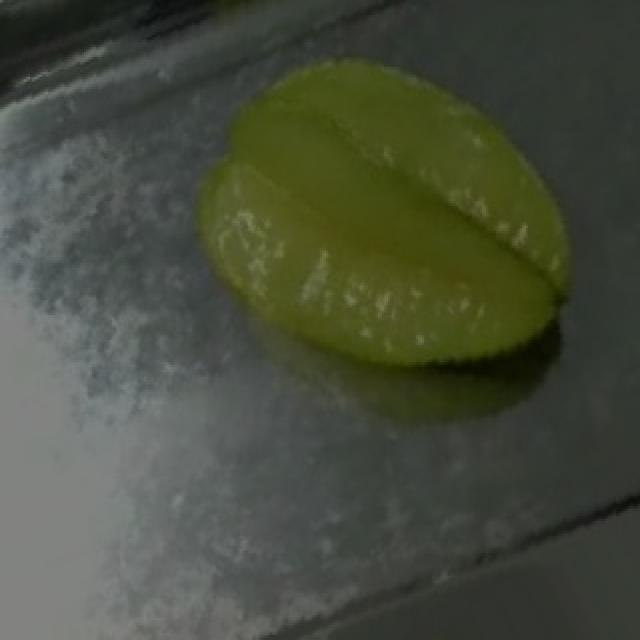fruit: (122, 0, 638, 489)
